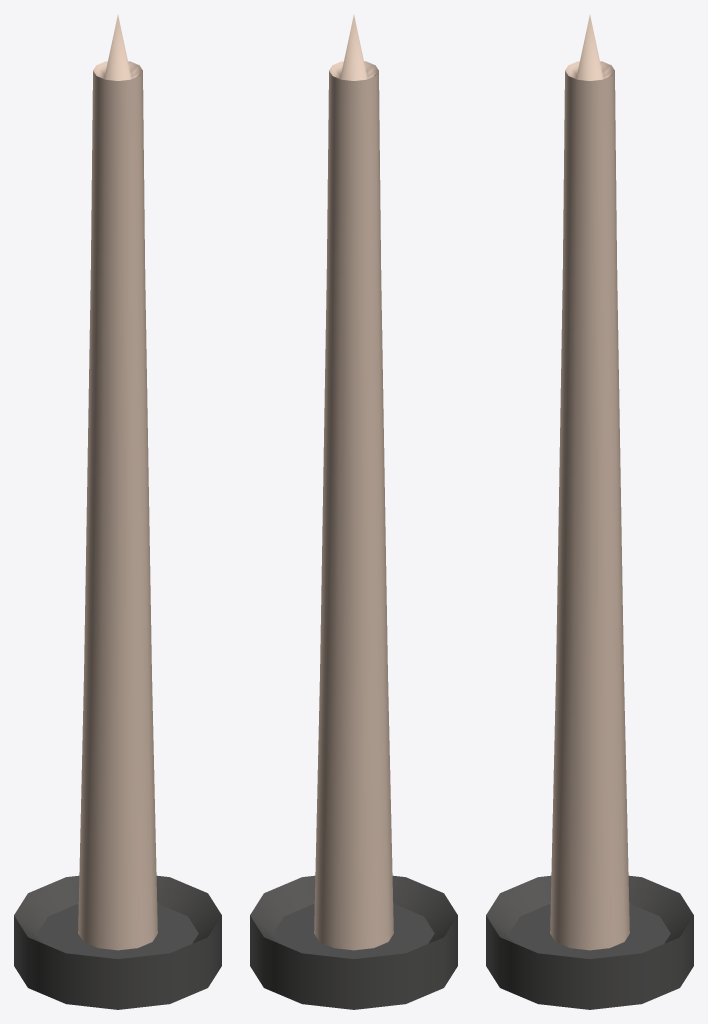
Rendered from candle.fbx.
The picture shows the model from 3 angles, left to right: view 1: azimuth 30°, elevation 25°; view 2: azimuth 150°, elevation 25°; view 3: azimuth 270°, elevation 25°; orthographic projection.
Visible parts, largest first — view 1: candle; view 2: candle; view 3: candle.
Part boxes in pixels (x1,y1,x2,y2): candle: (14,15,221,1009); candle: (250,15,457,1009); candle: (486,15,693,1009).
Bounding box in the file's own units: 6.92 × 34.94 × 6.92.
